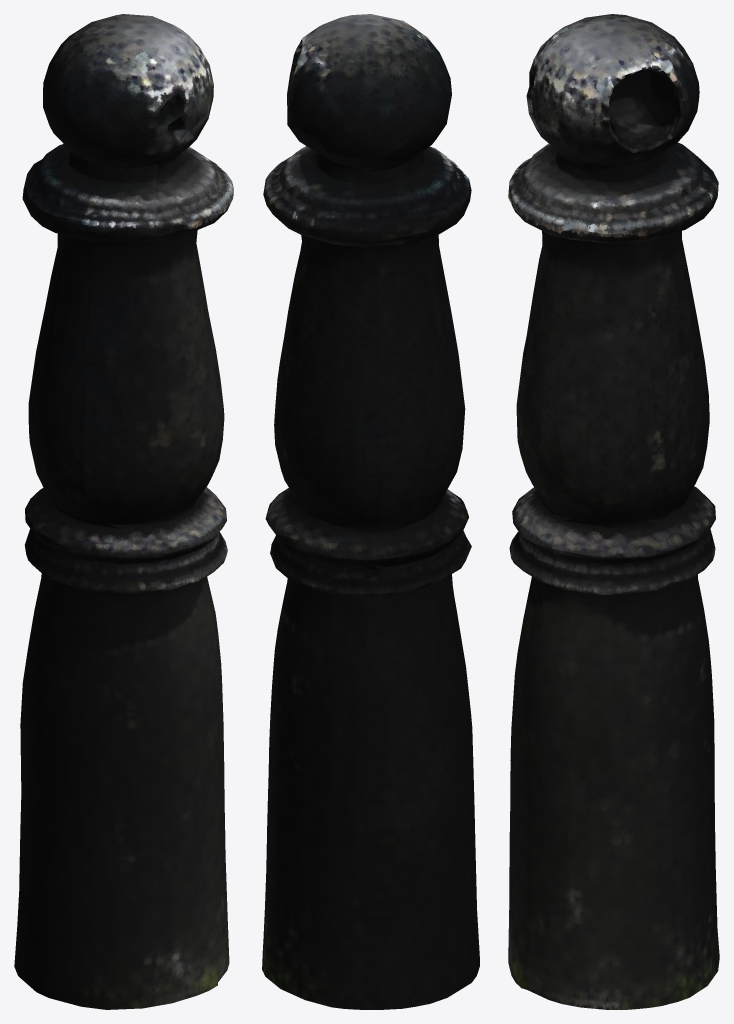
The model's file is bollard-iron.glb.
The picture shows the model from 3 angles, left to right: view 1: azimuth 30°, elevation 25°; view 2: azimuth 150°, elevation 25°; view 3: azimuth 270°, elevation 25°; orthographic projection.
Parts seen in each view (by area): view 1: bollard-iron; view 2: bollard-iron; view 3: bollard-iron.
Part boxes in pixels (bbox=[...]): bollard-iron: bbox=[14, 14, 233, 1009]; bollard-iron: bbox=[262, 14, 479, 1009]; bollard-iron: bbox=[508, 14, 719, 1009].
Size of the model in its own units: 0.19 by 0.9002 by 0.1831.
Materials: 1 (1 with a texture image).
